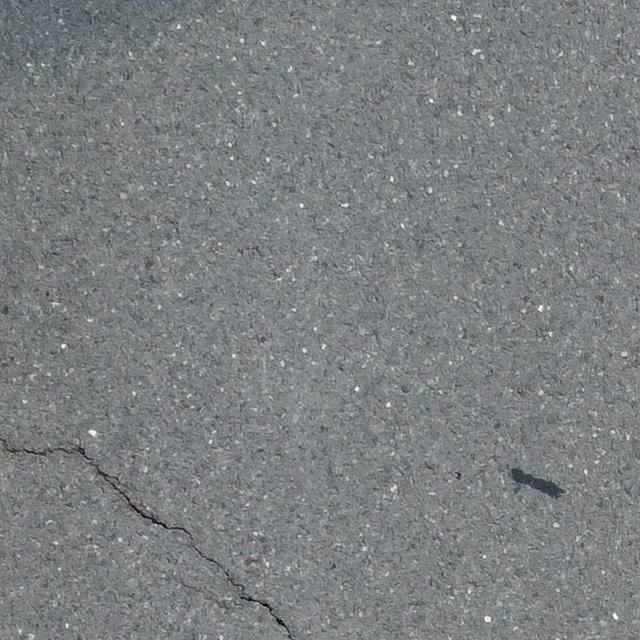TransverseCrack: (3, 441, 292, 639)
